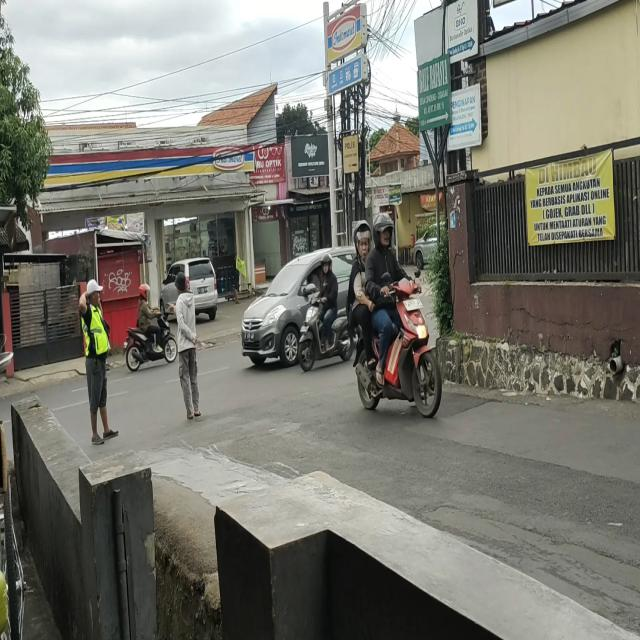helmet: (373, 215, 394, 247), (354, 221, 372, 258), (322, 255, 333, 274)
